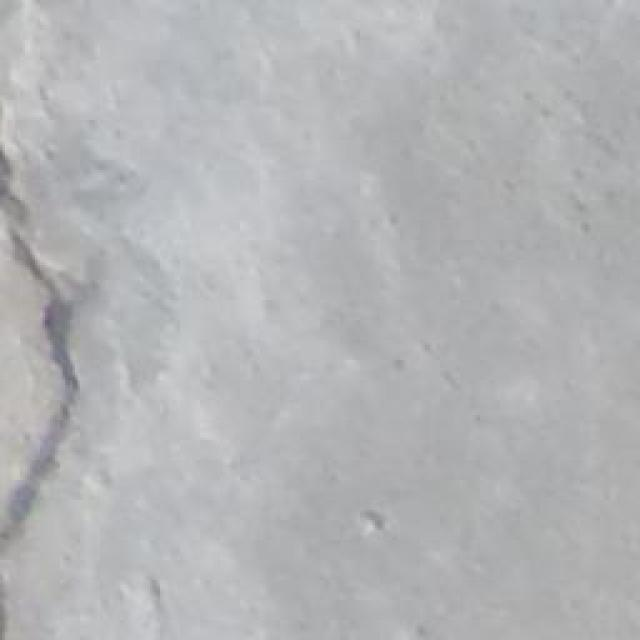concrete-crack: (0, 147, 82, 546)
